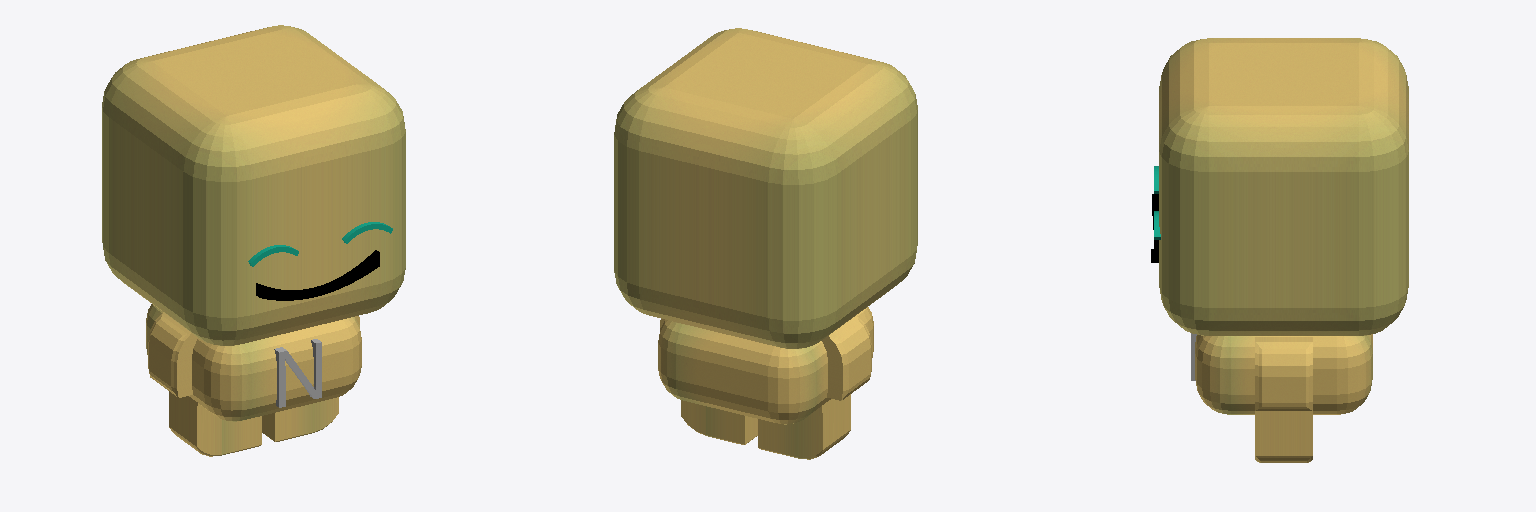
The picture shows the model from 3 angles: view 1: azimuth 30°, elevation 25°; view 2: azimuth 150°, elevation 25°; view 3: azimuth 270°, elevation 25°; orthographic projection.
Visible parts, largest first — view 1: Head_1, Body, mouth, Cap_1; view 2: Head_1, Body; view 3: Head_1, Body.
Part boxes in pixels (bbox=[...]): Head_1: bbox=[102, 25, 405, 345]; Body: bbox=[146, 304, 361, 456]; mouth: bbox=[256, 250, 379, 300]; Cap_1: bbox=[279, 342, 321, 407]; Head_1: bbox=[614, 28, 917, 348]; Body: bbox=[658, 307, 873, 459]; Head_1: bbox=[1159, 38, 1408, 335]; Body: bbox=[1195, 334, 1372, 462].
Size of the model in its own units: 20 by 32.14 by 20.64.
4 materials, 1 textured.